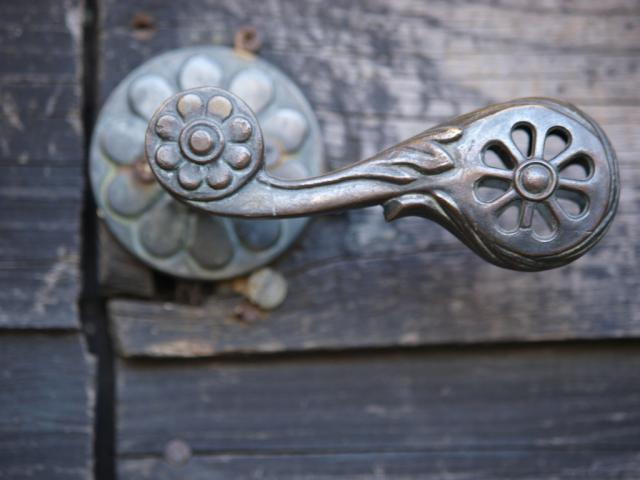Door-handle: (89, 46, 622, 283)
